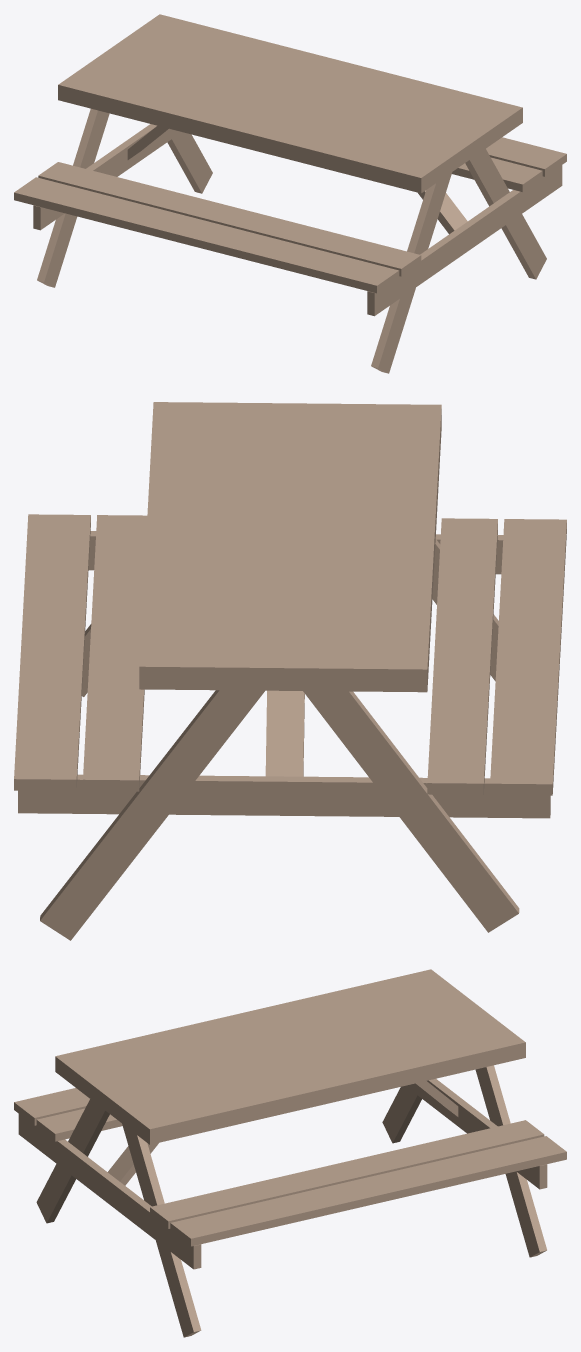
File: wood_bench.glb
3 renders of one model, top to bottom at view 1: azimuth 30°, elevation 25°; view 2: azimuth 150°, elevation 25°; view 3: azimuth 270°, elevation 25°, orthographic. The views are drawn at different scales.
Parts seen in each view (by area): view 1: part_7110, part_7111, part_7109, part_7116, part_7114, part_7115, part_7120, part_7122, part_7105, part_7121, part_7106, part_7108 (+1 smaller); view 2: part_7110, part_7111, part_7105, part_7109, part_7106, part_7122, part_7121, part_7120, part_7107, part_7114; view 3: part_7110, part_7105, part_7106, part_7116, part_7115, part_7121, part_7114, part_7122, part_7111, part_7120, part_7109, part_7108.
Part boxes in pixels (x1,y1,x2,y2): part_7110: (58,14,522,193); part_7111: (14,177,399,293); part_7109: (38,162,421,276); part_7116: (367,165,562,316); part_7114: (371,172,452,373); part_7115: (465,149,546,279); part_7120: (37,108,109,287); part_7122: (33,124,181,230); part_7105: (486,137,566,176); part_7121: (167,132,212,193); part_7106: (452,157,542,192); part_7108: (418,190,467,234); part_7110: (139,402,441,692); part_7111: (490,519,566,795); part_7105: (14,514,90,790); part_7109: (427,518,497,794); part_7106: (83,515,147,791); part_7122: (18,774,550,818); part_7121: (40,690,264,940); part_7120: (303,691,519,932); part_7107: (265,690,304,776); part_7114: (432,539,498,681); part_7110: (55,969,525,1144); part_7105: (170,1136,566,1246); part_7106: (150,1120,544,1228); part_7116: (18,1114,201,1269); part_7115: (122,1123,201,1337); part_7121: (475,1065,546,1257); part_7114: (36,1099,109,1223); part_7122: (405,1078,547,1189); part_7111: (14,1088,89,1125); part_7120: (382,1086,421,1143); part_7109: (36,1108,122,1141); part_7108: (107,1143,158,1185).
Size of the model in its own units: 12.35 by 4.98 by 12.9.
